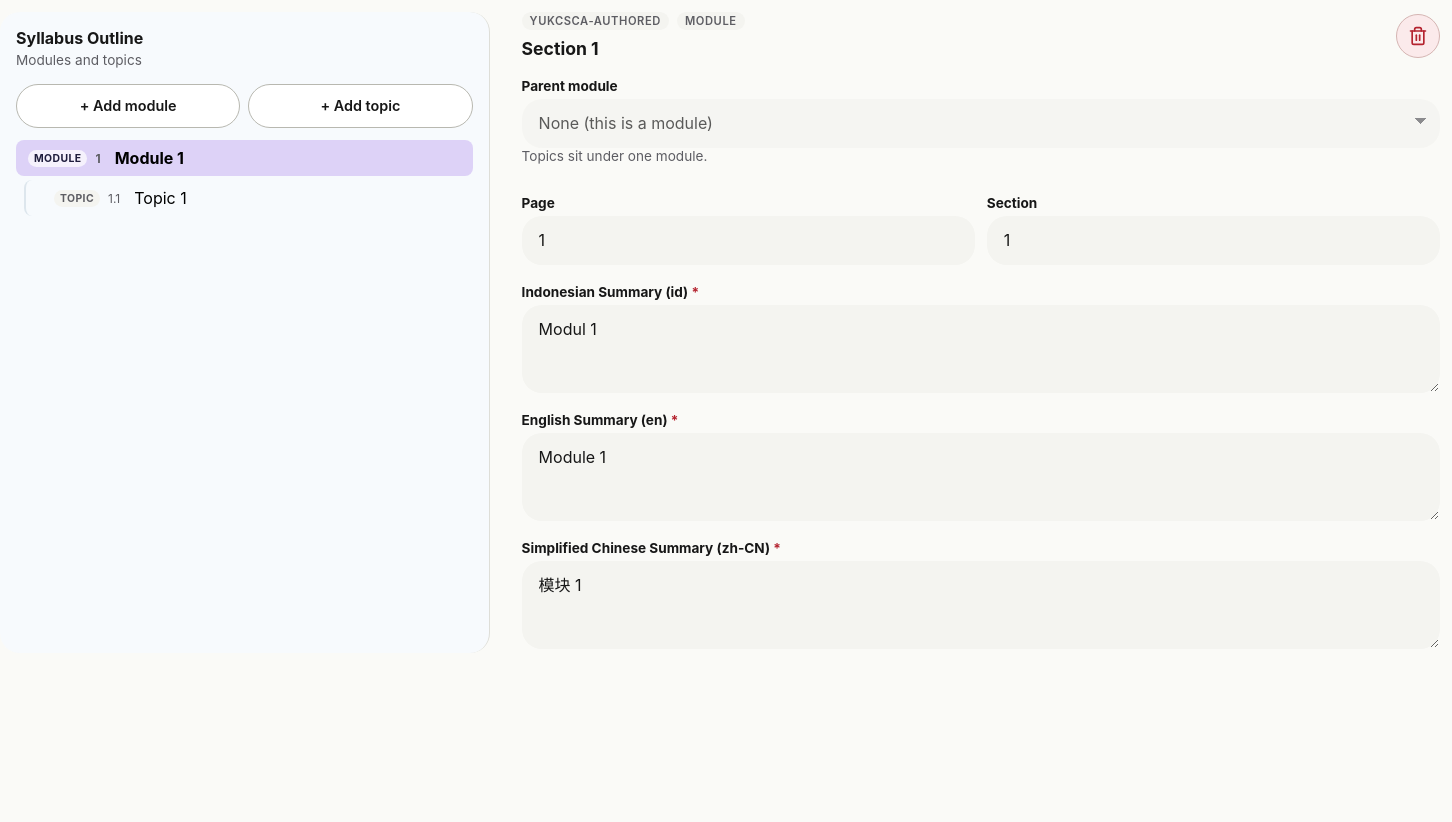
Scenario: SyllabusOutlineEditor › blocks deleting a module that still has topics
Note: First row is selected by default (module m1).
What coordinates should you click on to do the following:
click the button named "Remove outline item"
I would click on:
 (1418, 36)
Its box is x1=1396 y1=14 x2=1440 y2=58.
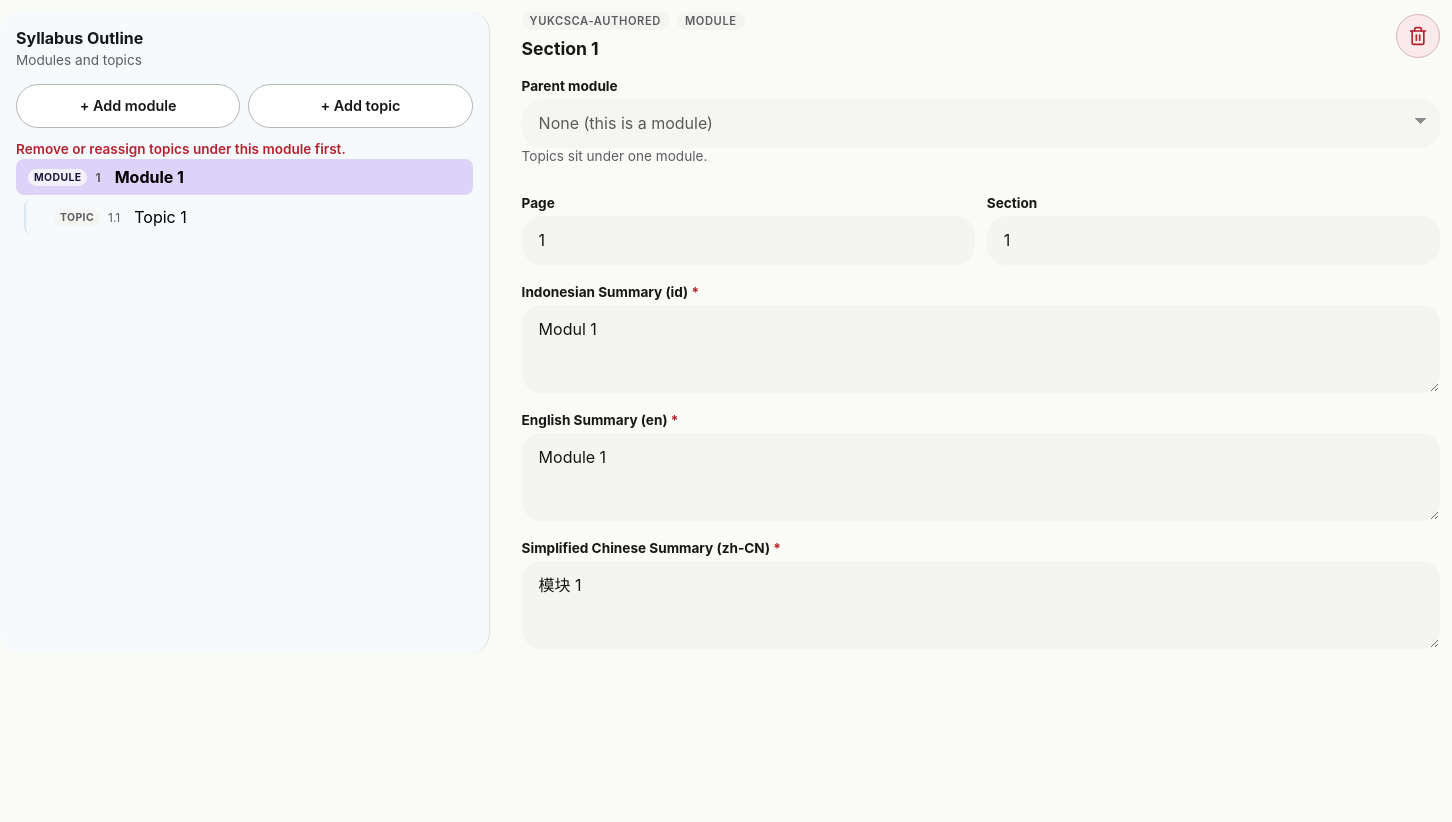
Expected: the text "Remove or reassign topics under this module first." is shown, x1=16 y1=141 x2=346 y2=157
